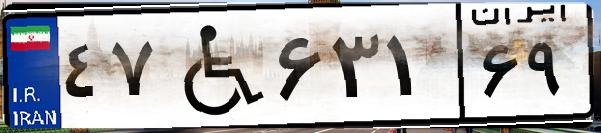1: (385, 28, 445, 110)
3: (330, 28, 385, 110)
4: (57, 26, 110, 100)
6: (270, 28, 330, 110), (475, 38, 525, 113)
7: (110, 28, 158, 98)
9: (525, 38, 570, 115)
ژ (معلولین و جانبازان): (158, 12, 270, 120)
